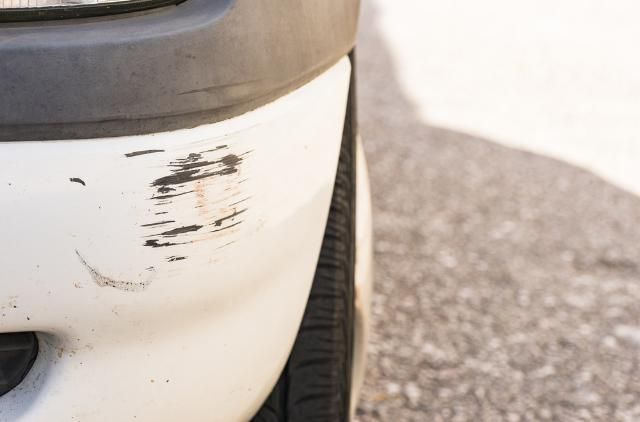scratch: (68, 135, 257, 296)
